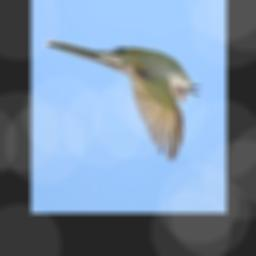Cuckoo: (45, 40, 201, 161)
